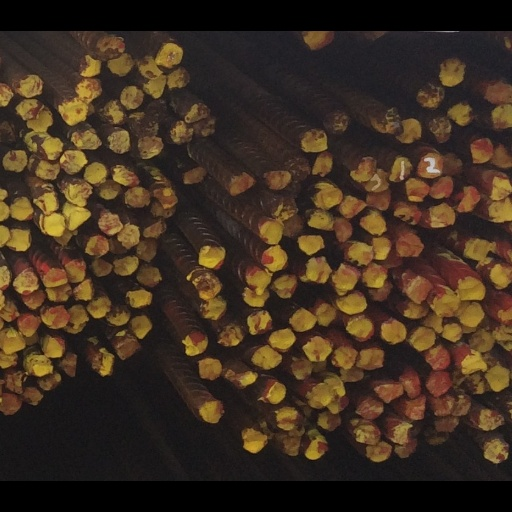dipstick: (466, 423, 505, 452), (302, 346, 331, 375), (251, 357, 281, 385), (312, 173, 341, 201), (60, 77, 87, 107), (416, 58, 443, 88), (13, 269, 40, 299), (439, 31, 465, 62), (112, 345, 140, 373), (192, 276, 220, 304), (24, 87, 53, 114), (62, 197, 89, 226), (41, 310, 68, 339), (241, 451, 267, 481), (335, 296, 366, 321), (96, 5, 124, 32), (216, 330, 243, 358), (198, 301, 226, 328), (323, 90, 351, 117), (426, 196, 454, 223), (261, 244, 287, 273), (305, 256, 331, 285), (425, 386, 451, 415), (377, 87, 402, 117), (455, 175, 479, 206), (59, 135, 86, 162), (408, 336, 435, 363), (457, 279, 484, 306), (74, 54, 102, 80), (334, 265, 360, 293), (394, 194, 420, 222), (458, 308, 484, 336), (469, 120, 493, 150), (290, 314, 316, 341), (396, 231, 423, 257), (395, 99, 421, 126), (349, 143, 375, 170), (246, 317, 271, 345), (416, 138, 441, 166), (198, 244, 224, 270), (424, 359, 450, 385), (468, 338, 494, 364), (155, 14, 182, 39), (136, 119, 163, 144), (113, 153, 140, 178), (182, 342, 207, 369), (300, 112, 327, 137), (375, 398, 402, 423), (39, 206, 64, 233), (40, 344, 65, 371), (306, 203, 334, 227), (303, 0, 335, 21), (485, 380, 508, 409), (357, 415, 382, 441), (347, 326, 373, 351), (33, 183, 59, 208), (6, 225, 31, 251), (138, 27, 162, 54), (330, 360, 357, 384), (381, 328, 405, 355), (365, 156, 389, 183), (405, 167, 429, 194), (448, 79, 472, 106), (488, 165, 512, 192), (273, 276, 296, 304), (402, 414, 425, 442), (390, 142, 413, 170), (407, 280, 430, 308), (428, 98, 451, 126), (488, 190, 511, 218), (10, 188, 33, 216), (363, 263, 385, 292), (107, 24, 132, 49), (260, 398, 285, 423), (483, 466, 508, 491), (16, 76, 42, 100), (97, 206, 121, 232), (269, 339, 295, 363), (275, 428, 299, 454), (307, 401, 331, 427), (357, 361, 384, 384), (429, 163, 452, 190), (43, 285, 70, 308), (17, 321, 40, 348), (362, 182, 390, 204), (18, 50, 42, 75), (107, 113, 131, 138), (246, 269, 270, 294), (244, 289, 268, 314), (361, 206, 385, 231), (435, 298, 459, 323), (2, 134, 26, 159), (83, 149, 106, 175), (27, 369, 53, 392), (0, 410, 23, 436), (117, 219, 139, 246), (34, 387, 61, 409), (97, 168, 121, 192), (85, 232, 109, 256), (199, 421, 223, 445), (366, 466, 390, 490), (462, 365, 486, 389), (170, 101, 193, 126), (124, 177, 149, 200), (198, 371, 221, 396), (349, 240, 372, 265), (429, 414, 454, 437), (42, 268, 67, 291), (20, 292, 45, 315), (111, 255, 137, 277), (64, 259, 86, 285), (298, 232, 324, 254), (131, 322, 151, 350), (230, 163, 254, 186), (153, 178, 177, 201), (137, 265, 160, 289), (87, 302, 110, 326), (317, 431, 340, 455), (356, 446, 379, 470), (340, 188, 363, 212), (120, 63, 142, 88), (260, 217, 282, 242), (433, 435, 458, 457), (92, 367, 113, 393), (78, 27, 101, 50), (65, 311, 87, 335), (290, 372, 312, 396), (265, 159, 290, 180), (369, 235, 390, 260), (312, 138, 332, 164), (168, 41, 190, 64), (71, 283, 94, 305), (107, 312, 129, 335), (134, 237, 156, 260), (126, 294, 151, 314), (315, 310, 335, 335), (304, 462, 324, 487), (492, 83, 512, 108), (333, 212, 351, 239), (183, 154, 207, 174), (185, 82, 207, 103), (143, 53, 163, 75), (143, 215, 165, 235), (394, 464, 416, 484), (400, 394, 420, 415), (90, 259, 112, 278), (337, 382, 363, 398), (442, 332, 461, 353), (235, 386, 255, 401)
